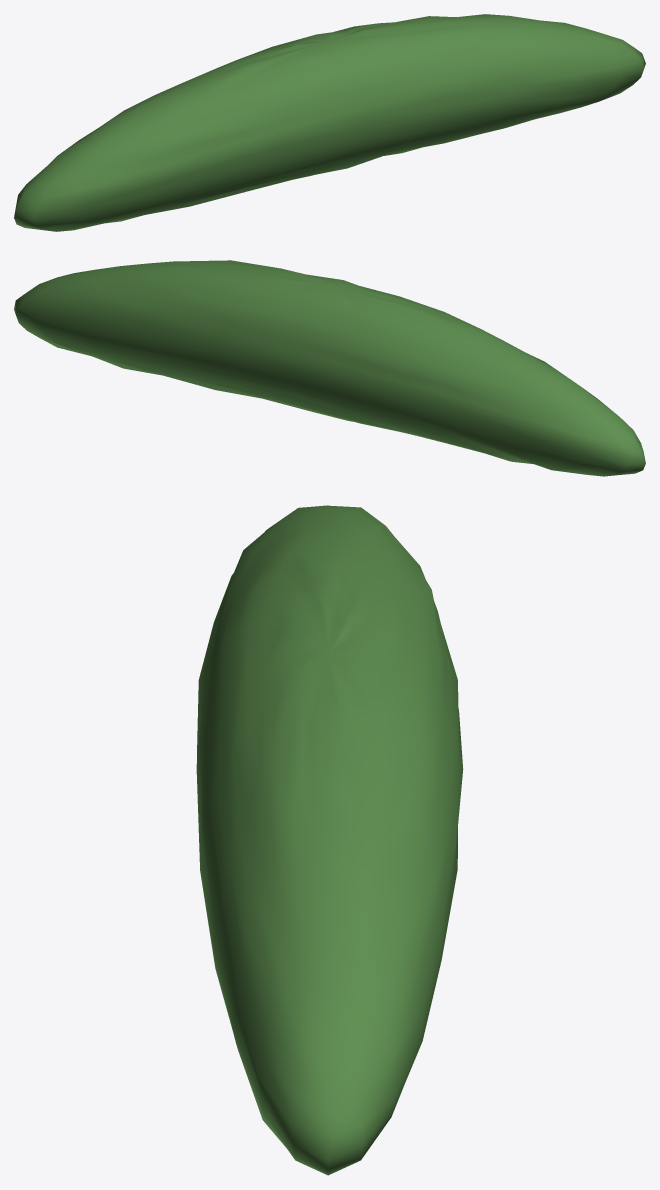
File: Cucumber.fbx
3 renders of one model, top to bottom at view 1: azimuth 30°, elevation 25°; view 2: azimuth 150°, elevation 25°; view 3: azimuth 270°, elevation 25°, orthographic. The views are drawn at different scales.
Parts seen in each view (by area): view 1: Cucumber; view 2: Cucumber; view 3: Cucumber.
Boxes of the visible parts, bbox=[...] form: Cucumber: bbox=[14, 14, 645, 231]; Cucumber: bbox=[14, 260, 645, 476]; Cucumber: bbox=[196, 505, 463, 1175].
Bounding box in the file's own units: 0.2 × 0.0375 × 0.0365.
